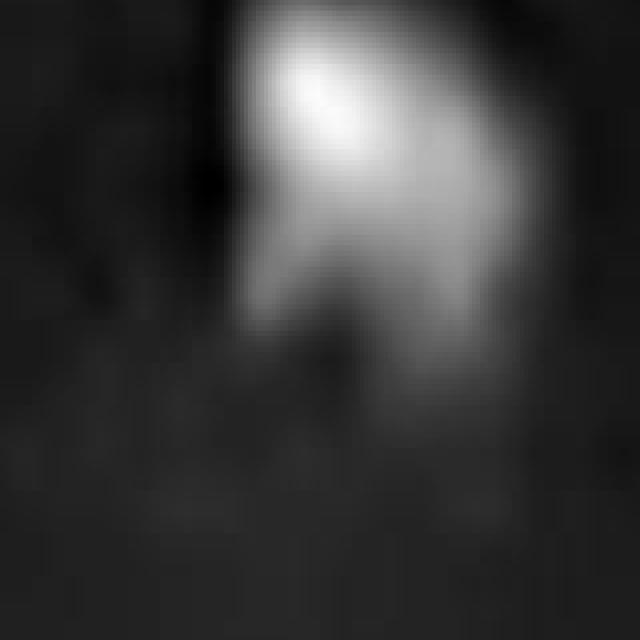person: (205, 1, 553, 406)
